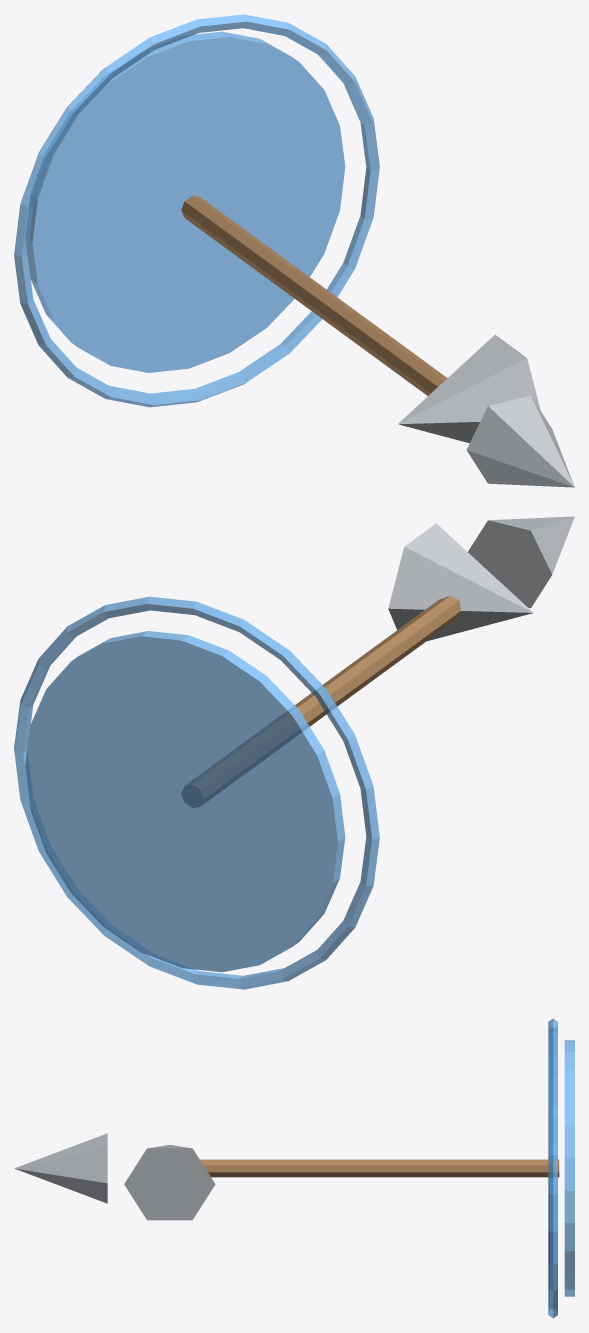
Rendered from weapon_pickup_halberd_rare.glb.
The picture shows the model from 3 angles, top to bottom: view 1: azimuth 30°, elevation 25°; view 2: azimuth 150°, elevation 25°; view 3: azimuth 270°, elevation 25°; orthographic projection. The views are drawn at different scales.
Visible parts, largest first — view 1: rarity_base_disc, rarity_orbit_ring, shaft, side_blade, spear_tip; view 2: rarity_base_disc, rarity_orbit_ring, shaft, side_blade, spear_tip; view 3: shaft, side_blade, spear_tip, rarity_orbit_ring, rarity_base_disc.
Boxes of the visible parts, left/top/right/bottom form: rarity_base_disc: left=26, top=31, right=345, bottom=372; rarity_orbit_ring: left=14, top=14, right=379, bottom=407; shaft: left=181, top=196, right=447, bottom=395; side_blade: left=398, top=334, right=540, bottom=443; spear_tip: left=466, top=395, right=574, bottom=487; rarity_base_disc: left=25, top=631, right=345, bottom=972; rarity_orbit_ring: left=14, top=596, right=379, bottom=989; shaft: left=182, top=596, right=460, bottom=807; side_blade: left=388, top=523, right=533, bottom=641; spear_tip: left=468, top=516, right=574, bottom=608; shaft: left=200, top=1159, right=559, bottom=1177; side_blade: left=124, top=1145, right=215, bottom=1220; spear_tip: left=14, top=1133, right=107, bottom=1203; rarity_orbit_ring: left=548, top=1018, right=557, bottom=1318; rarity_base_disc: left=564, top=1040, right=574, bottom=1296.
Size of the model in its own units: 1.45 by 1.45 by 2.7.
